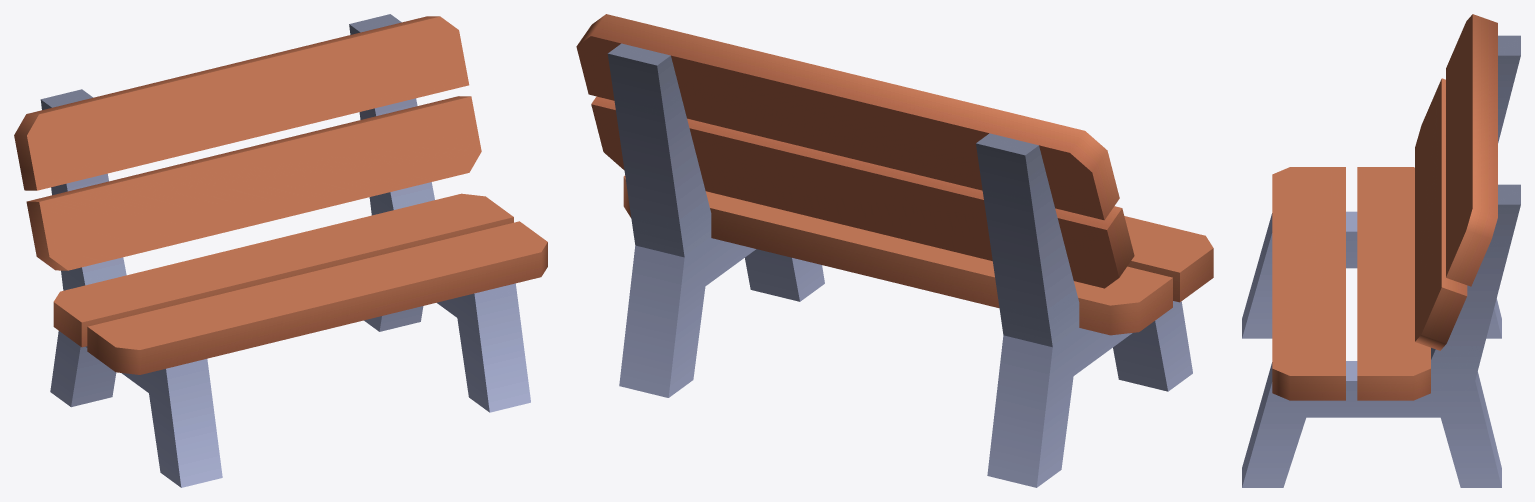
The model's file is kenney-holiday-kit-bench.glb.
3 renders of one model, left to right at view 1: azimuth 30°, elevation 25°; view 2: azimuth 150°, elevation 25°; view 3: azimuth 270°, elevation 25°, orthographic. The views are drawn at different scales.
Parts seen in each view (by area): view 1: bench; view 2: bench; view 3: bench.
Boxes of the visible parts, x1=… form: bench: x1=14, y1=14, x2=547, y2=487; bench: x1=576, y1=14, x2=1213, y2=487; bench: x1=1242, y1=14, x2=1520, y2=487.
Size of the model in its own units: 1.12 by 0.7305 by 0.6321.
1 material, 1 textured.
